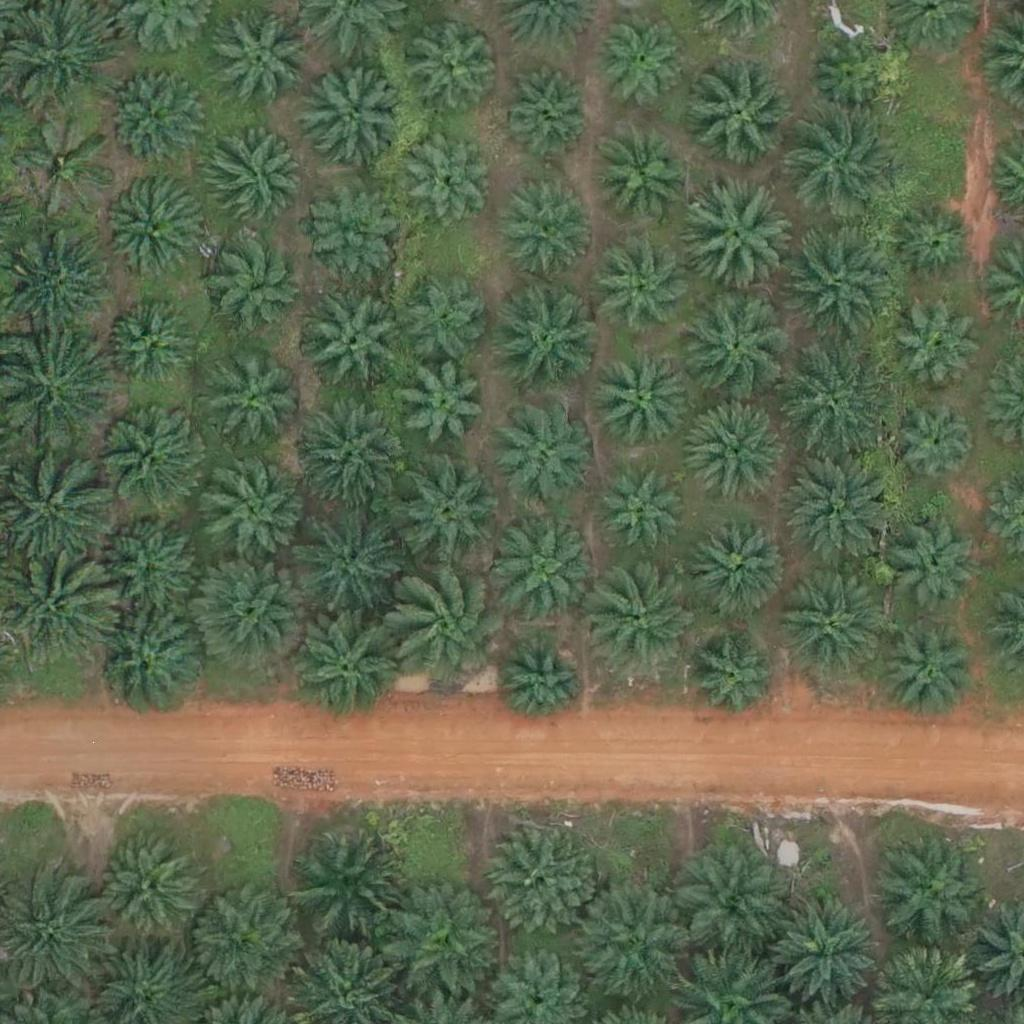Kelapa_Sawit: (388, 567, 513, 693), (874, 832, 987, 946), (772, 896, 885, 1010), (786, 227, 899, 341), (683, 55, 796, 169), (485, 828, 598, 941), (383, 889, 496, 1002), (186, 885, 299, 998), (676, 183, 789, 296), (292, 404, 405, 517), (292, 505, 405, 618), (288, 612, 401, 725), (582, 885, 694, 999), (774, 568, 886, 682), (676, 848, 788, 961), (295, 825, 407, 938), (789, 106, 901, 219), (777, 346, 889, 459), (785, 458, 897, 571), (679, 290, 791, 403), (589, 564, 701, 677), (388, 456, 500, 569), (197, 560, 309, 673), (91, 606, 203, 719), (94, 838, 194, 939), (879, 625, 979, 726), (690, 516, 790, 617), (593, 124, 693, 225), (595, 241, 695, 342), (591, 352, 691, 453), (496, 173, 596, 274), (495, 292, 595, 393), (492, 401, 592, 502), (404, 13, 504, 114), (304, 68, 404, 169), (308, 297, 408, 398), (209, 10, 309, 111), (201, 130, 301, 231), (206, 230, 306, 331), (202, 462, 302, 563), (107, 65, 207, 166), (104, 181, 204, 282), (103, 407, 203, 508), (689, 399, 789, 499), (497, 524, 597, 624), (300, 180, 400, 280), (104, 509, 204, 609), (16, 116, 116, 216), (596, 22, 684, 111), (895, 307, 983, 395), (891, 401, 979, 489), (809, 36, 897, 124), (691, 639, 779, 727), (501, 66, 589, 154), (106, 306, 194, 394), (603, 467, 690, 556), (890, 204, 977, 292), (891, 518, 978, 606), (498, 639, 585, 727), (402, 134, 489, 222), (402, 275, 489, 363), (399, 363, 486, 451), (210, 358, 297, 446)
